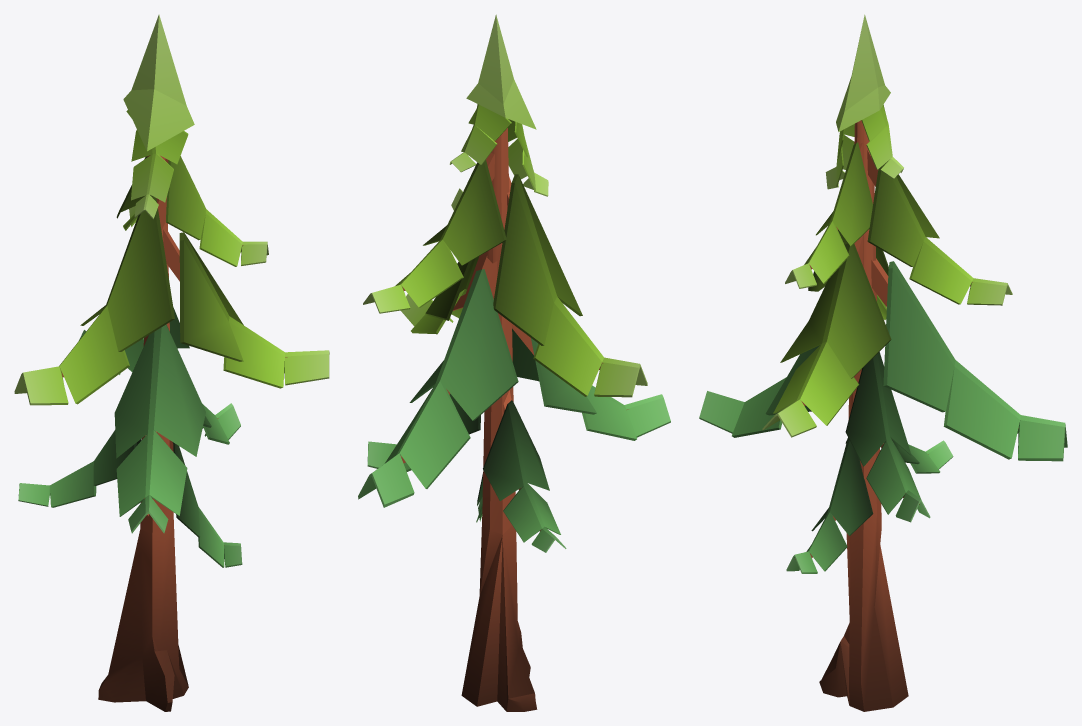
The model's file is Tree_E_2.fbx.
3 views of the same model, side by side, from view 1: azimuth 30°, elevation 25°; view 2: azimuth 150°, elevation 25°; view 3: azimuth 270°, elevation 25° (orthographic).
Parts seen in each view (by area): view 1: Tree_E_2; view 2: Tree_E_2; view 3: Tree_E_2.
Boxes of the visible parts, x1,y1,x2,y2 form: Tree_E_2: [14, 14, 329, 711]; Tree_E_2: [358, 14, 670, 711]; Tree_E_2: [699, 14, 1067, 711].
Size of the model in its own units: 141 by 334 by 163.
